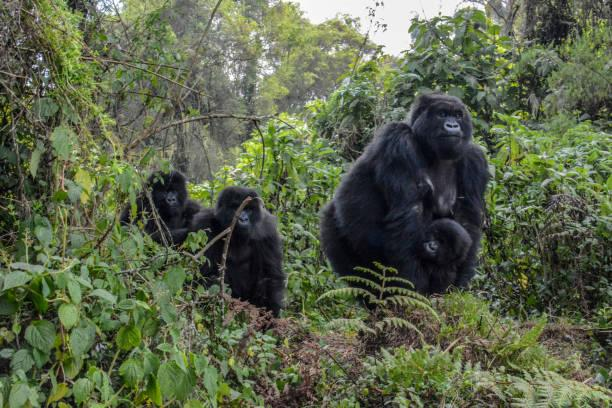goriile_montagne: (313, 81, 520, 330), (207, 168, 285, 319), (117, 136, 213, 253), (407, 207, 490, 298)
